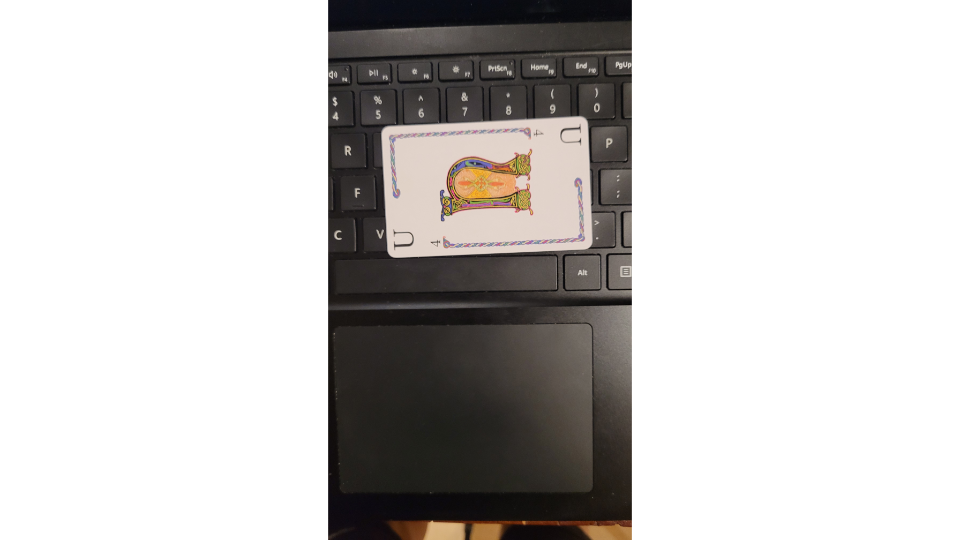U: (377, 114, 599, 261)
